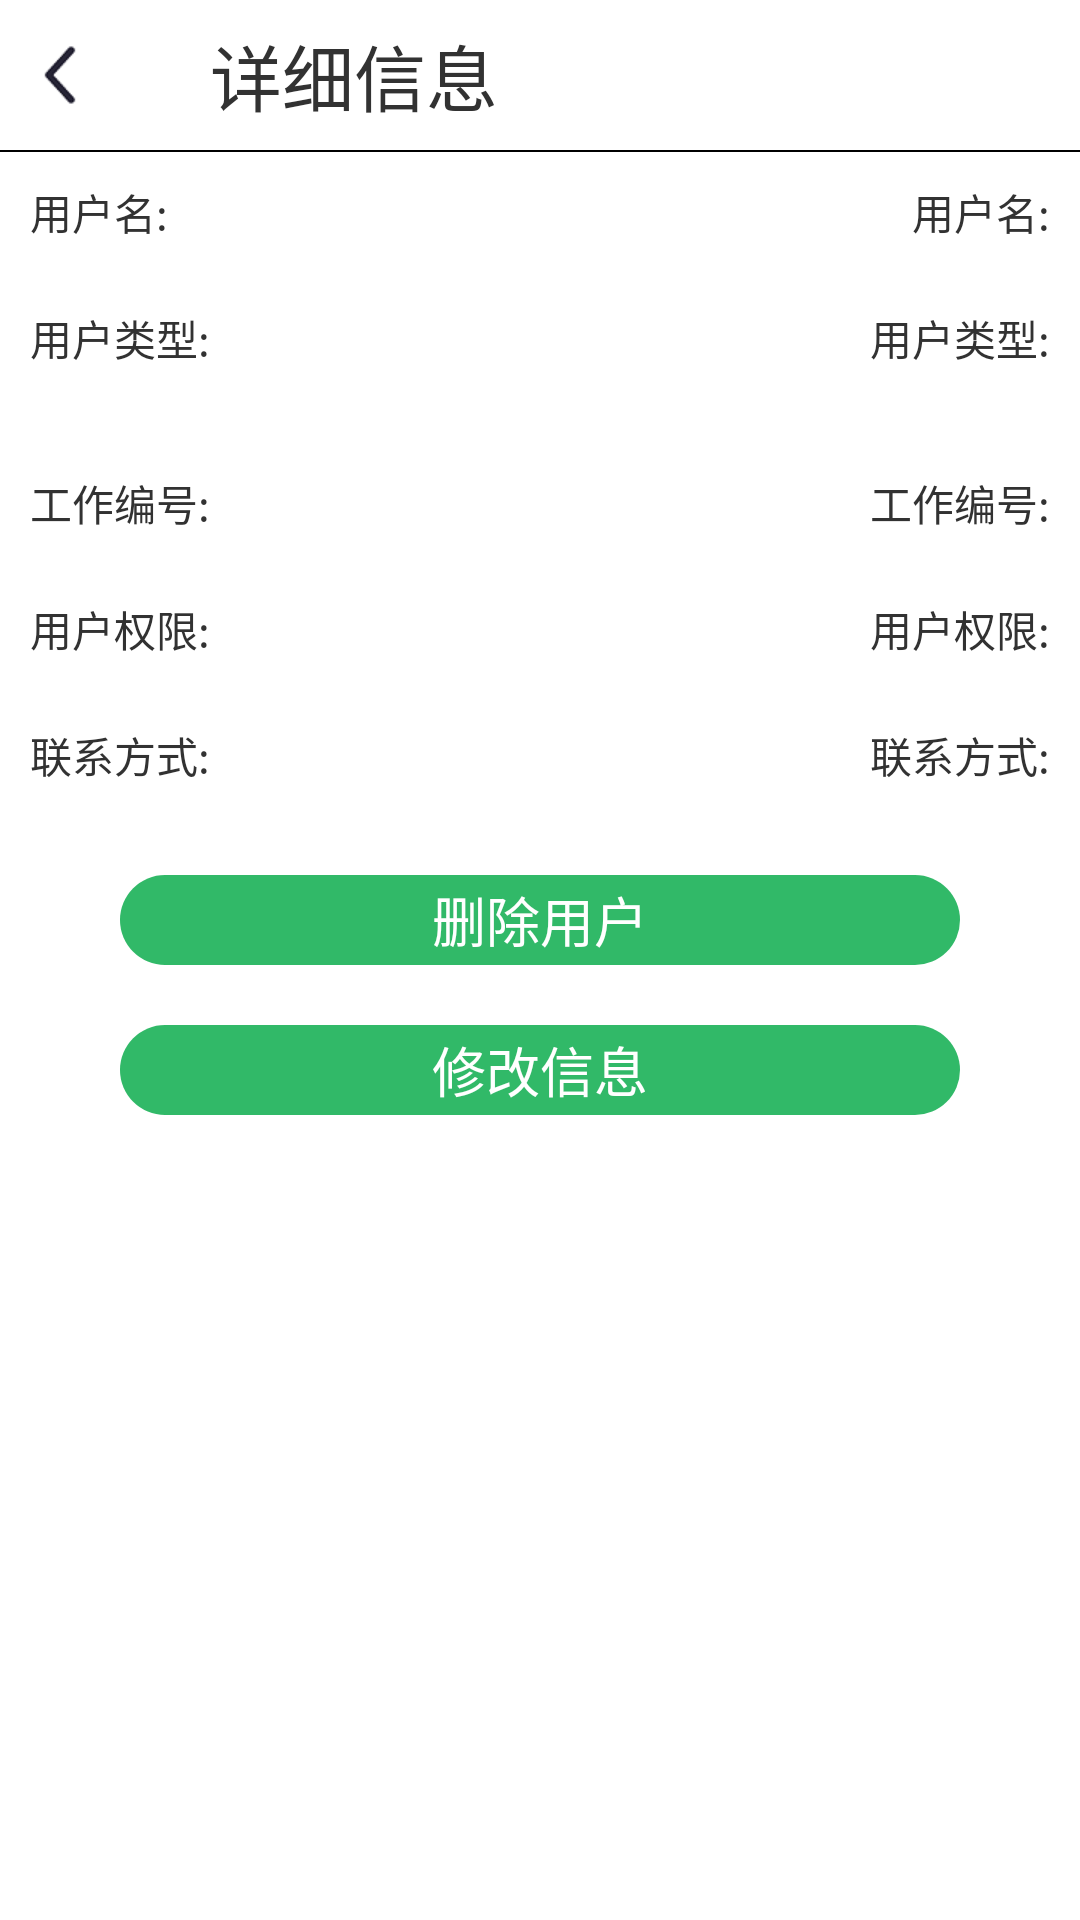

Named icons in this screenshot (1080×1920) and their bounding boxes, (x1, y1, x2, y2):
arrow back: (44, 46, 76, 104)
